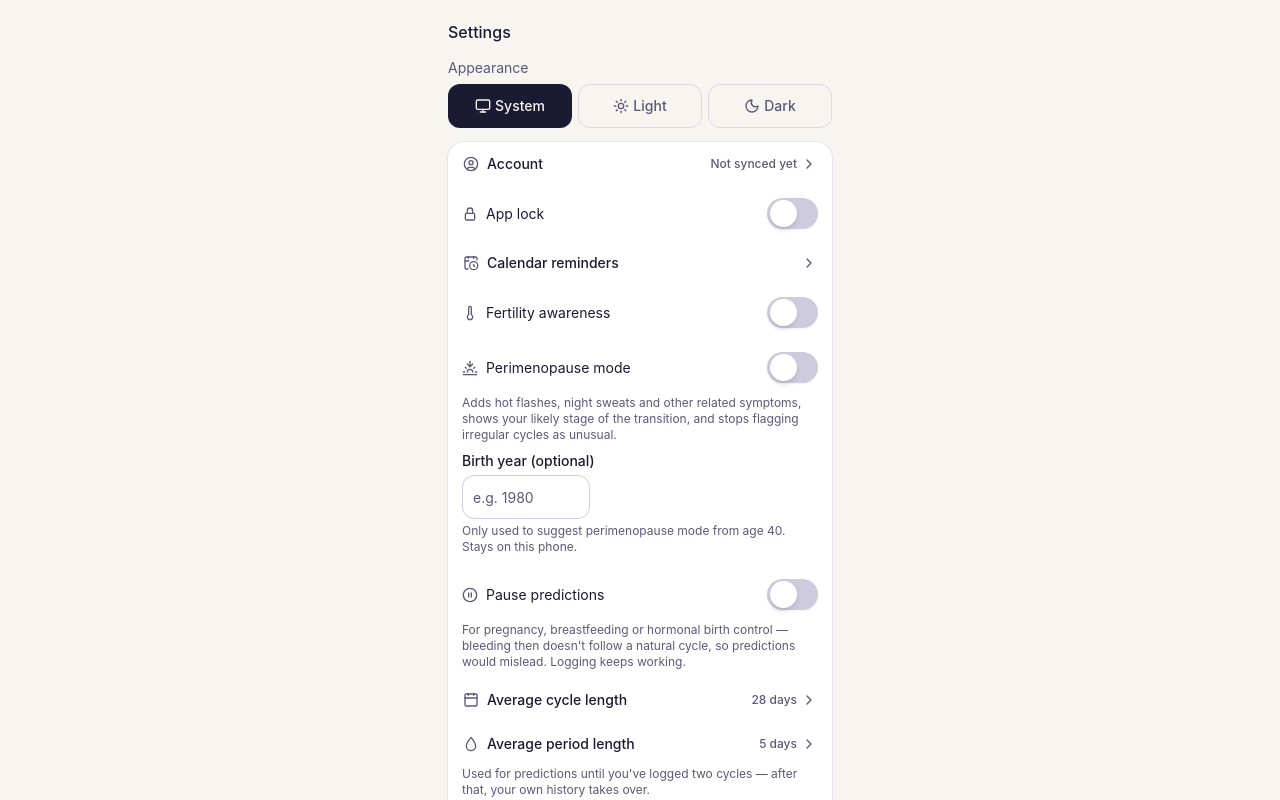
Account (T98) › keeps the session when deleting fails
This screenshot has width=1280, height=800.
Click the button "Account Not synced yet" at [515, 164], box [448,142,832,186]
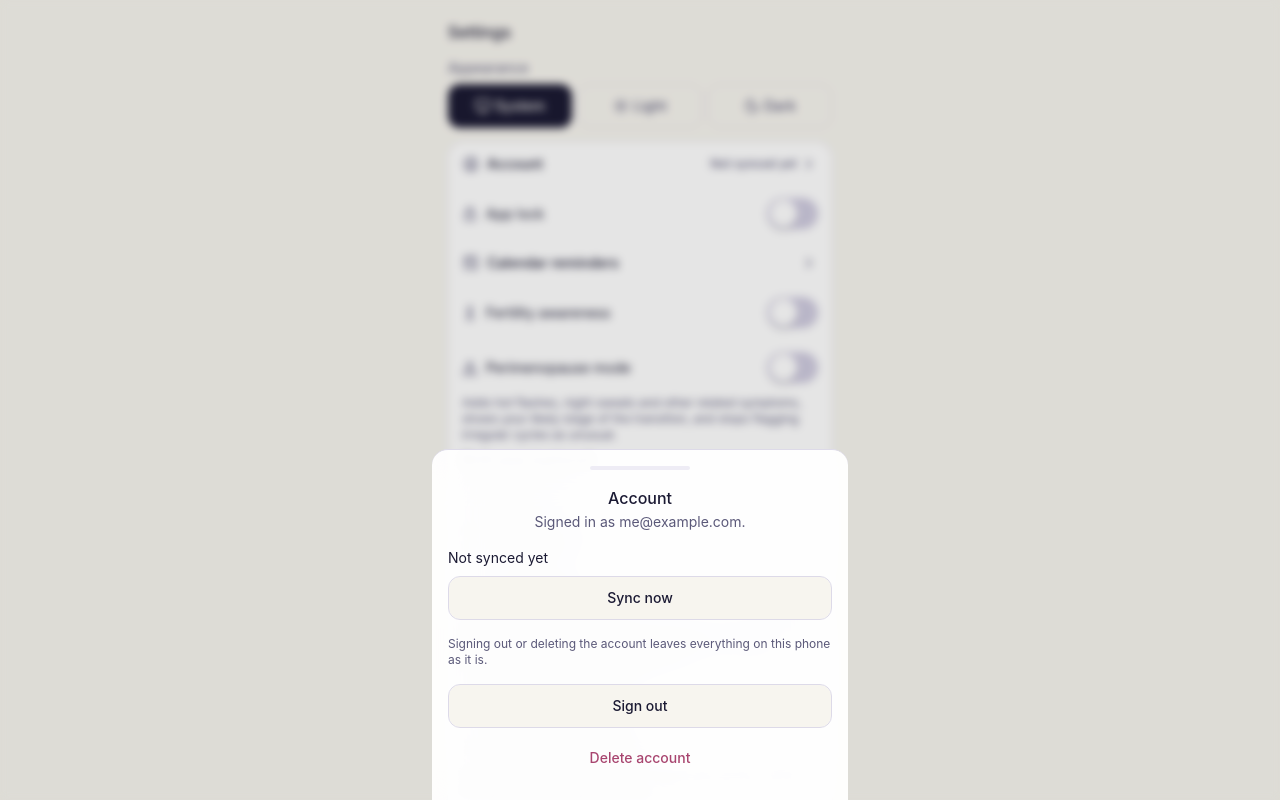
Click the button "Delete account" at [640, 758], box [448,736,832,780]
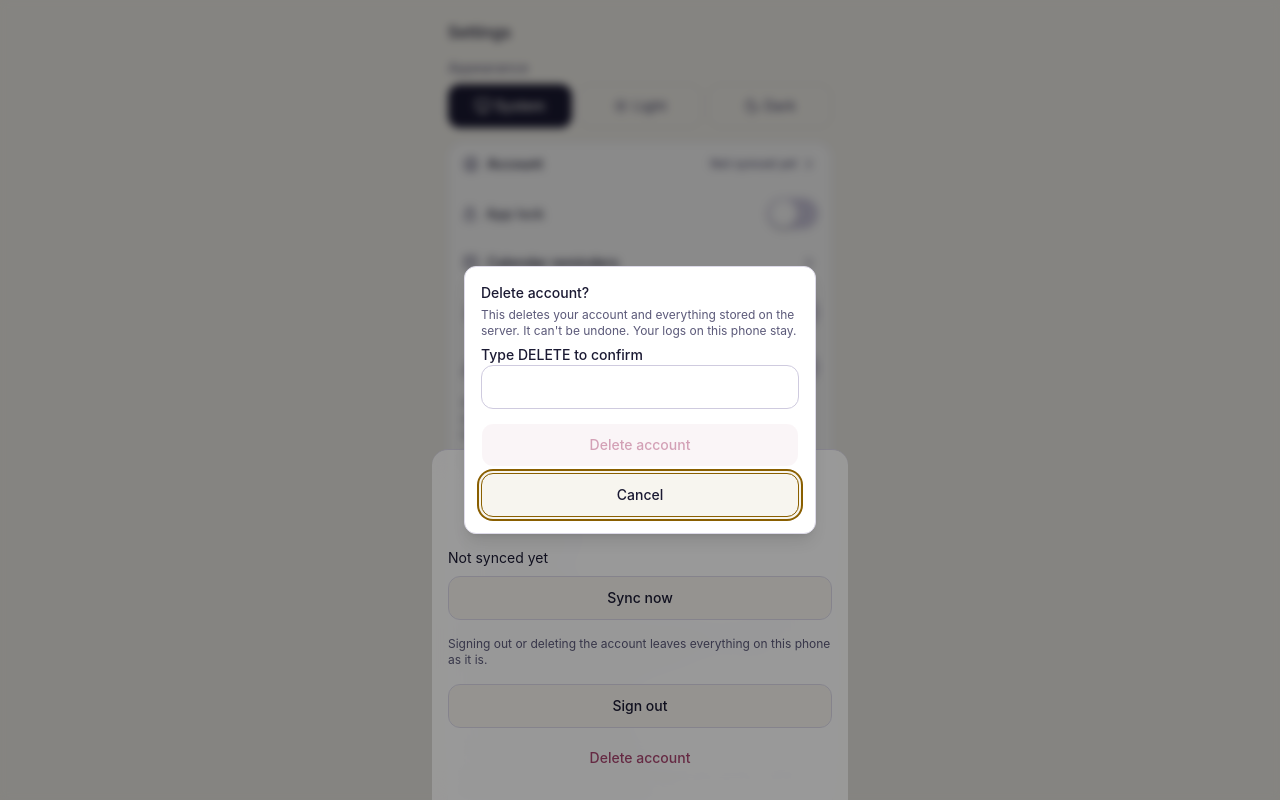
Type "DELETE" into the field labelled "Type DELETE to confirm" at [640, 387], box [481,365,799,409]
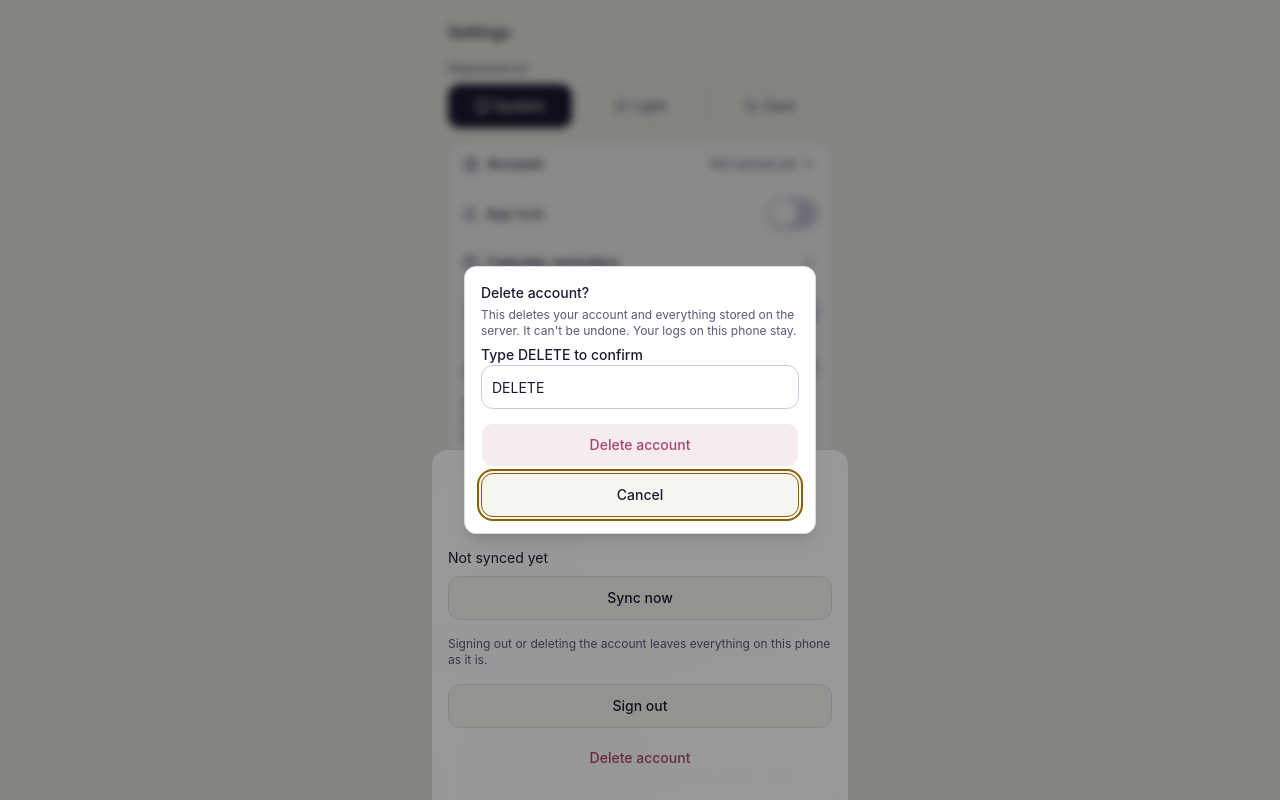
Click the button "Delete account" at [640, 445], box [481,423,799,467]
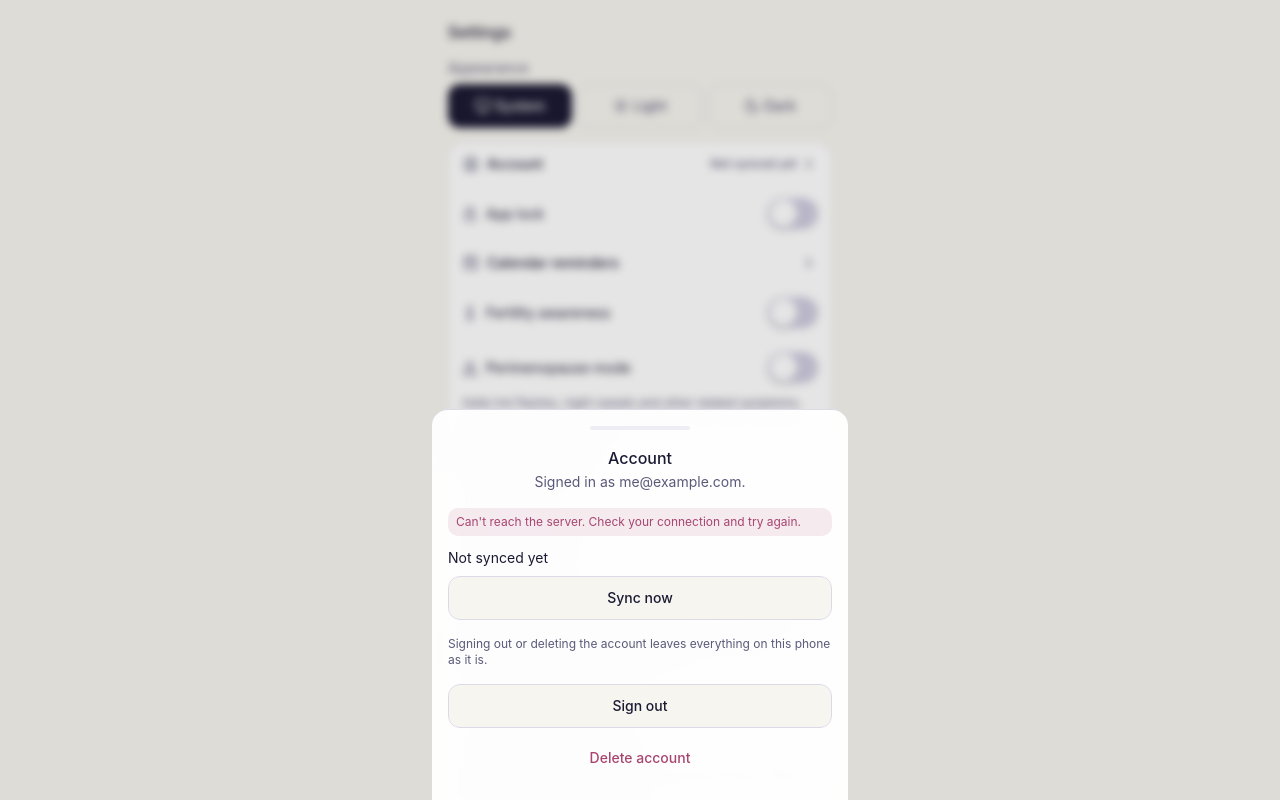
Expected: the text "Can't reach the server. Check your connection and try again." is shown, [456,514,801,530]
